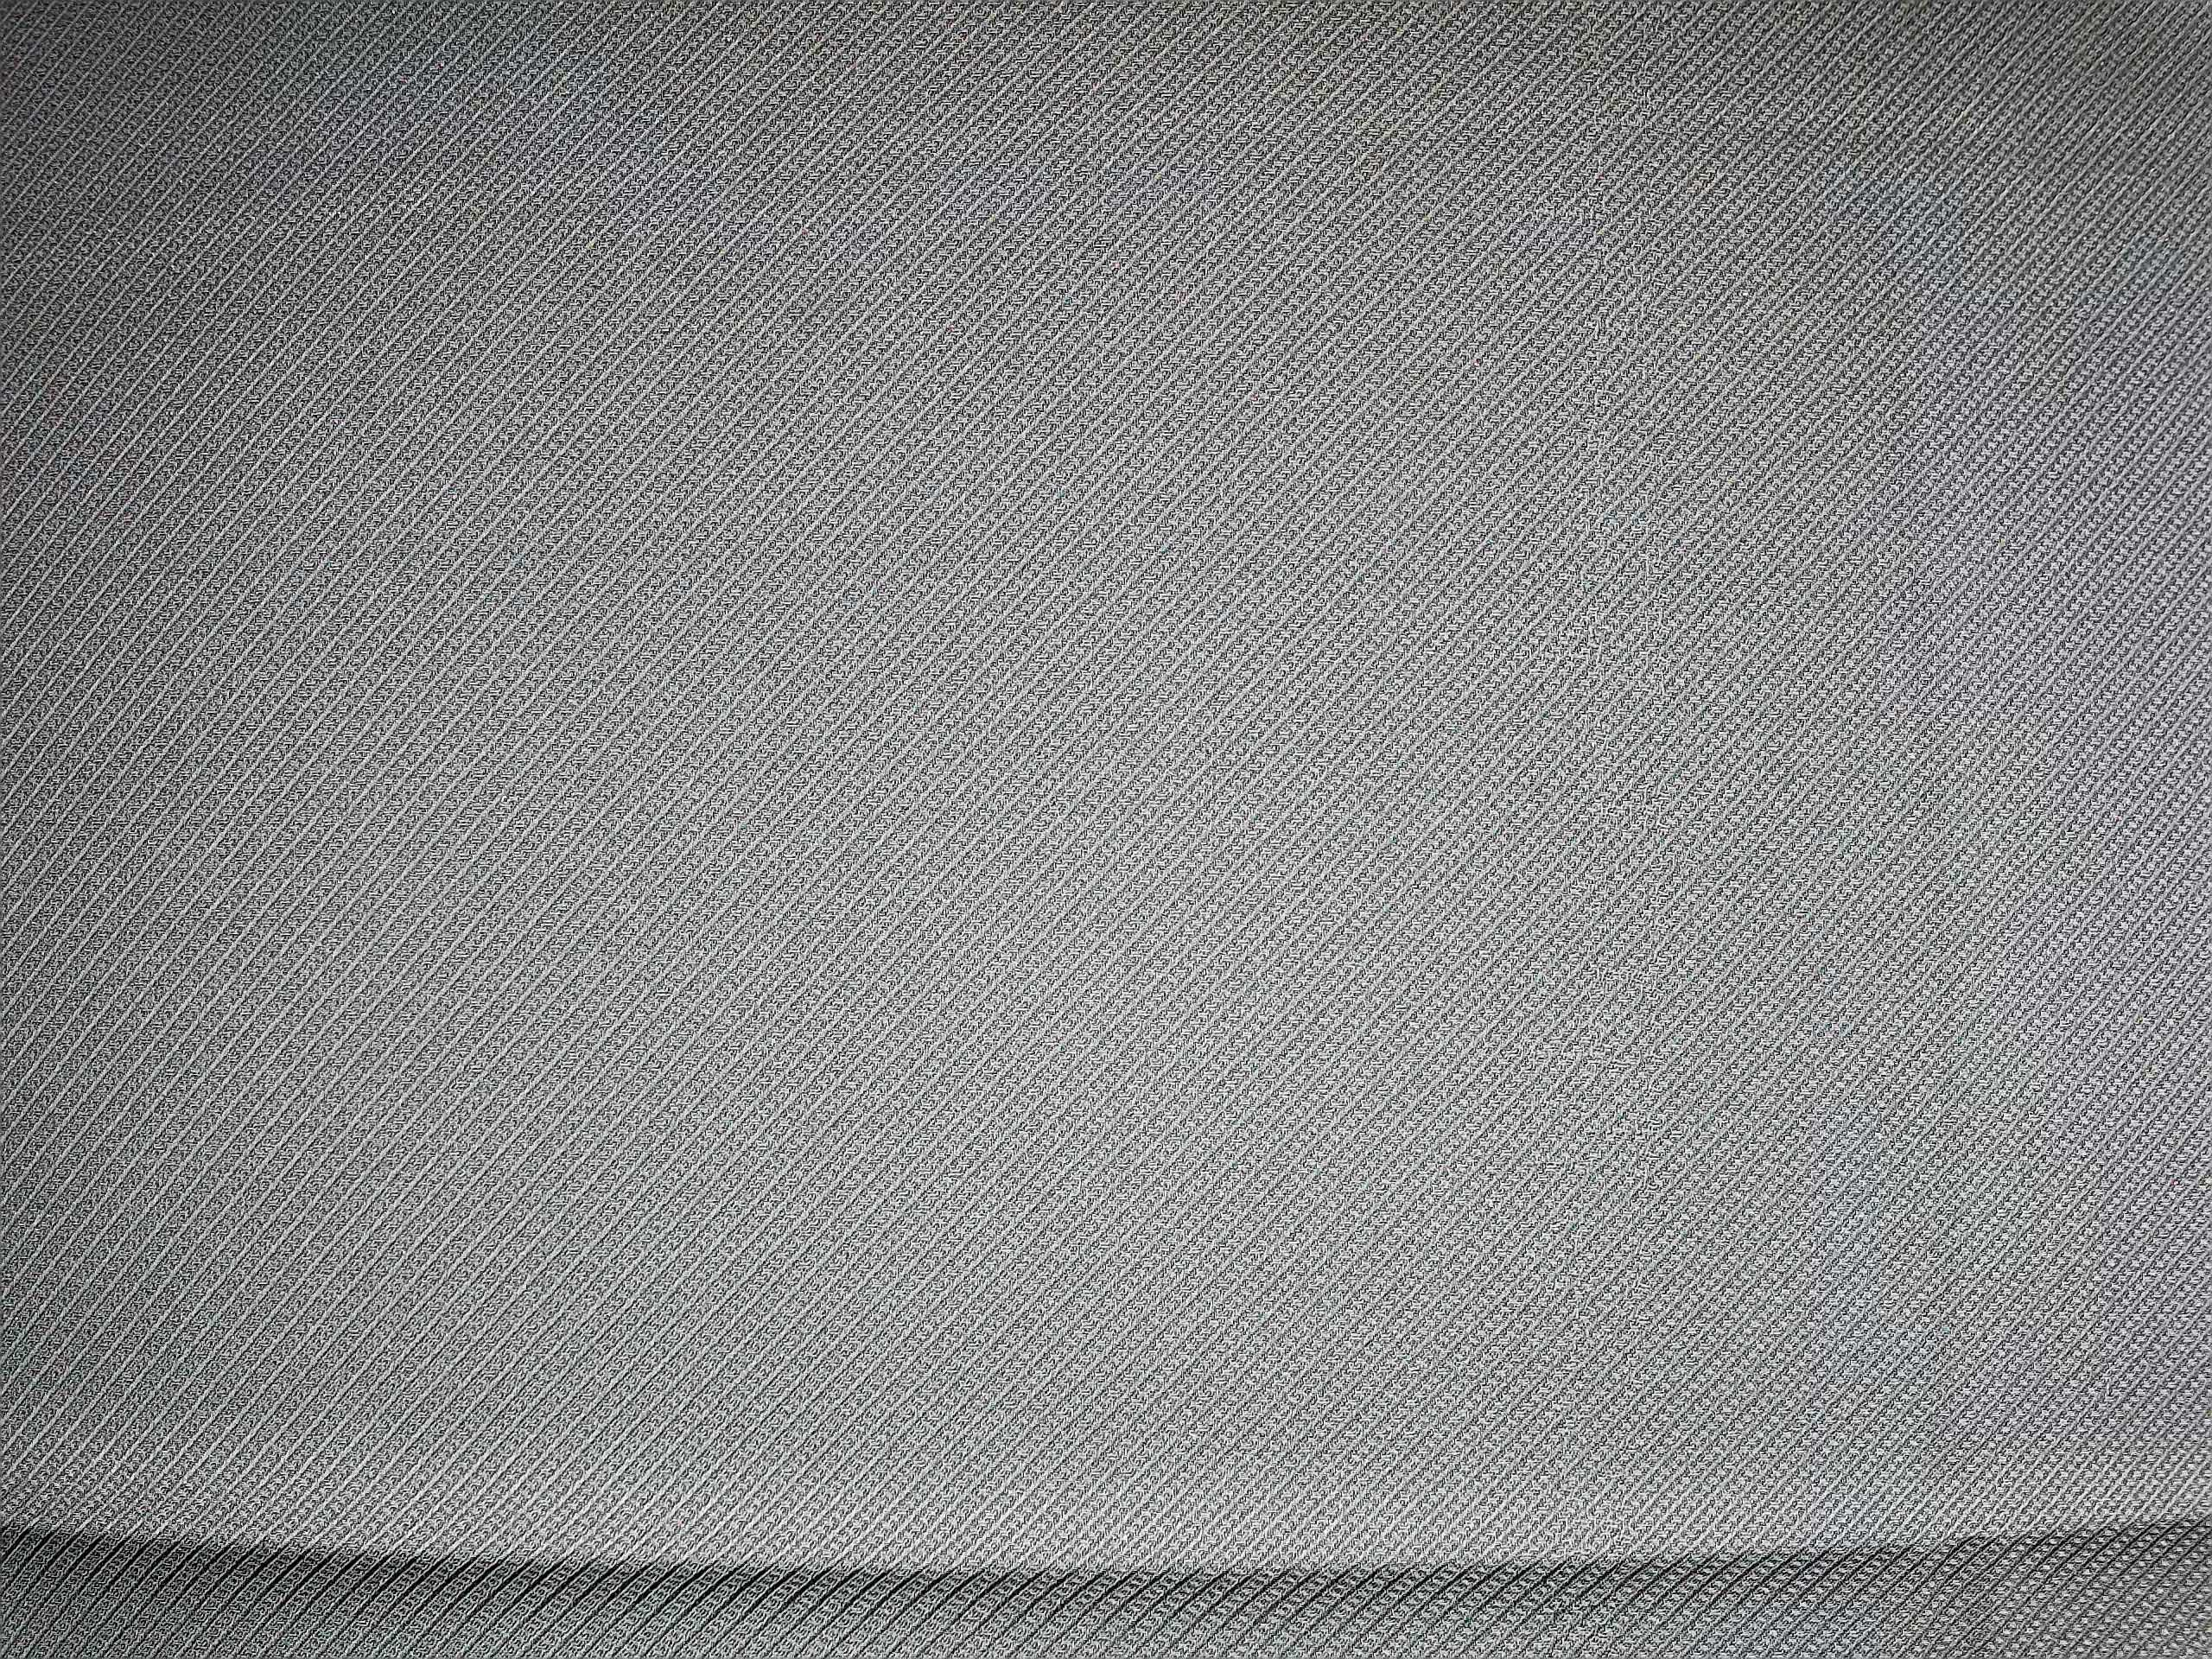jumps: (1554, 17, 1723, 1403)
